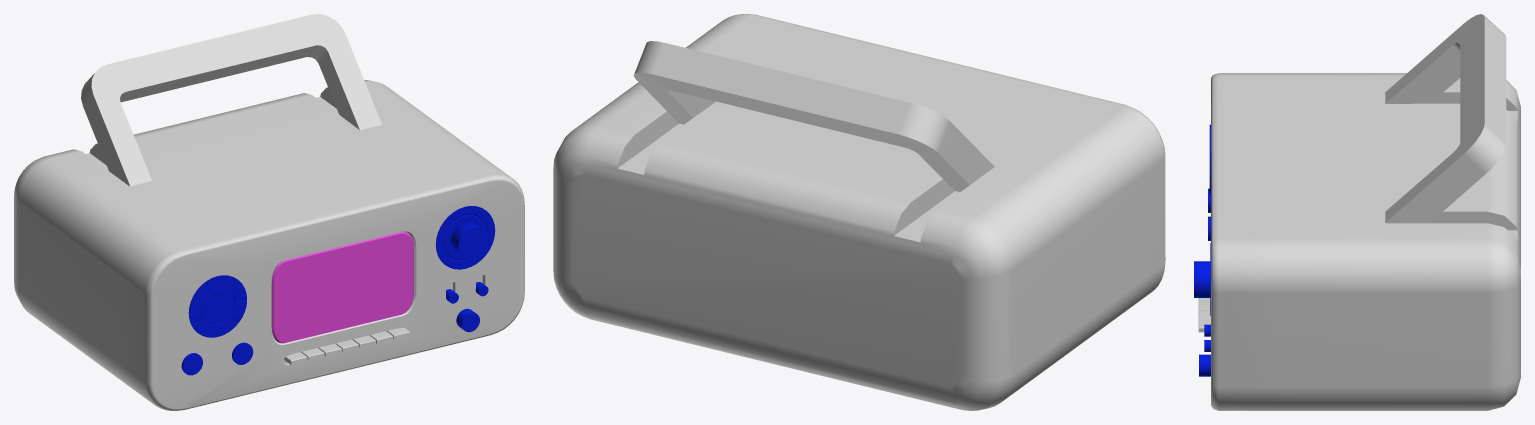
The model's file is S_Radio.fbx.
3 views of the same model, side by side, from view 1: azimuth 30°, elevation 25°; view 2: azimuth 150°, elevation 25°; view 3: azimuth 270°, elevation 25° (orthographic). The views are drawn at different scales.
Visible parts, largest first — view 1: MAIN.001, VOLUME_BUTTON.001; view 2: MAIN.001; view 3: MAIN.001, VOLUME_BUTTON.001.
Part boxes in pixels (left/top/right/bottom): MAIN.001: left=14, top=14, right=524, bottom=410; VOLUME_BUTTON.001: left=181, top=206, right=495, bottom=375; MAIN.001: left=553, top=14, right=1165, bottom=410; MAIN.001: left=1198, top=14, right=1520, bottom=410; VOLUME_BUTTON.001: left=1194, top=124, right=1210, bottom=376.
Size of the model in its own units: 30 by 18.19 by 21.08.
